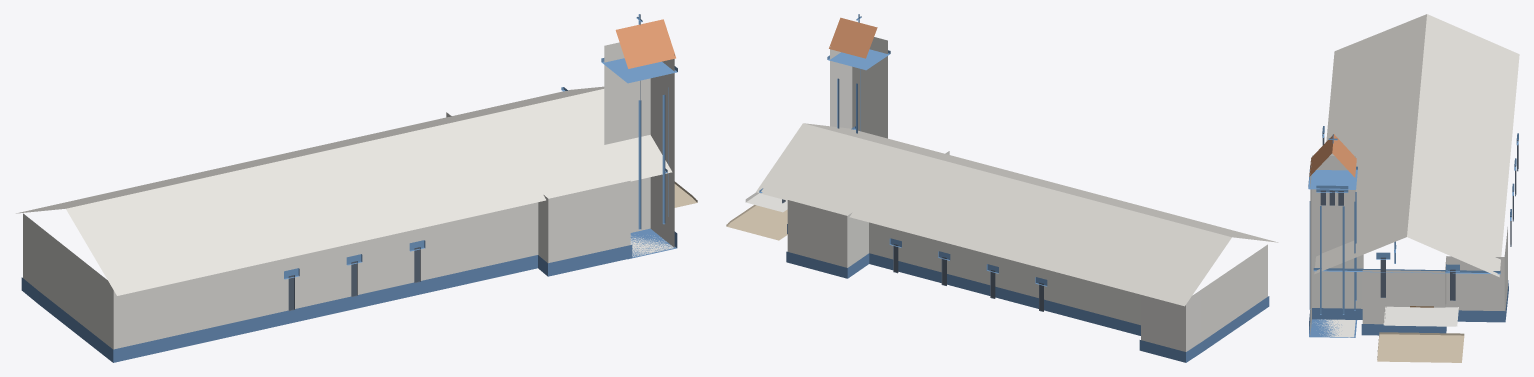
Rendered from sc_holymary.glb.
3 views of the same model, side by side, from view 1: azimuth 30°, elevation 25°; view 2: azimuth 150°, elevation 25°; view 3: azimuth 270°, elevation 25° (orthographic). The views are drawn at different scales.
Visible parts, largest first — view 1: sc_holymary_lod0; view 2: sc_holymary_lod0; view 3: sc_holymary_lod0.
Boxes of the visible parts, x1,y1,x2,y2 form: sc_holymary_lod0: (16,14,697,362); sc_holymary_lod0: (726,14,1278,362); sc_holymary_lod0: (1308,14,1519,362).
Size of what is drawn, in the model's own units: 59.43 by 21.35 by 21.23.
